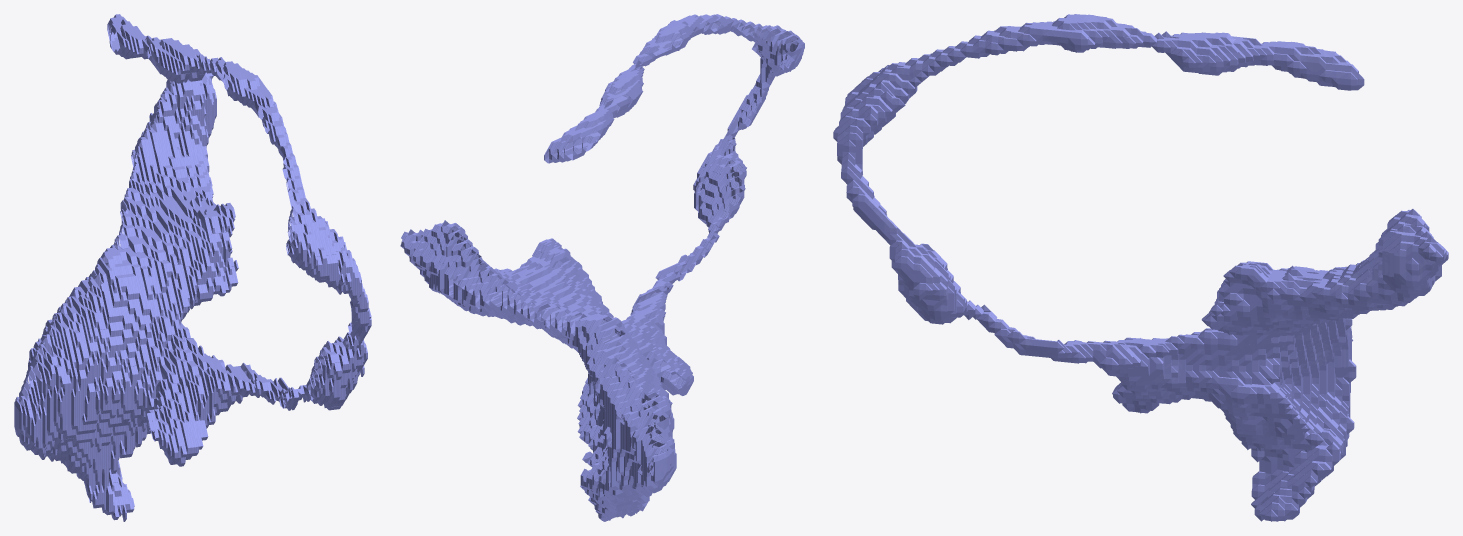
File: SVV_IL1L.gltf
3 views of the same model, side by side, from view 1: azimuth 30°, elevation 25°; view 2: azimuth 150°, elevation 25°; view 3: azimuth 270°, elevation 25° (orthographic). The views are drawn at different scales.
Parts seen in each view (by area): view 1: IL1L; view 2: IL1L; view 3: IL1L.
Boxes of the visible parts, <box> form: IL1L: <box>14,14,371,521</box>; IL1L: <box>400,14,804,521</box>; IL1L: <box>833,14,1448,521</box>.
Size of the model in its own units: 30249 by 57380 by 61983.
